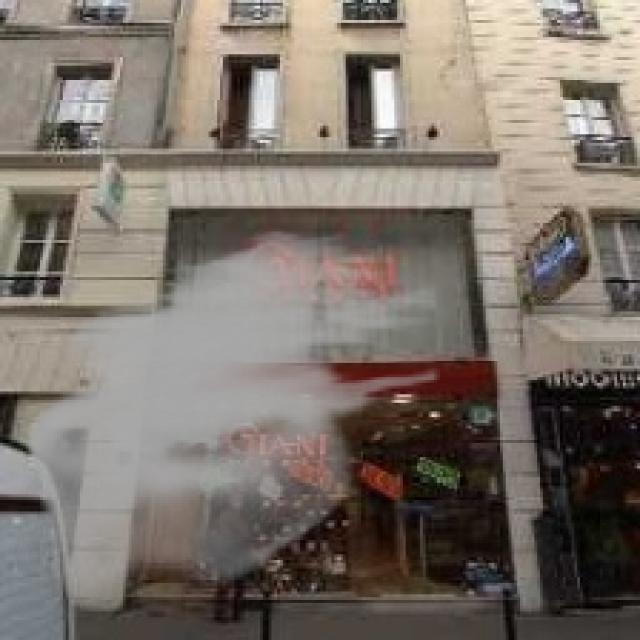smoke: (26, 226, 440, 600)
